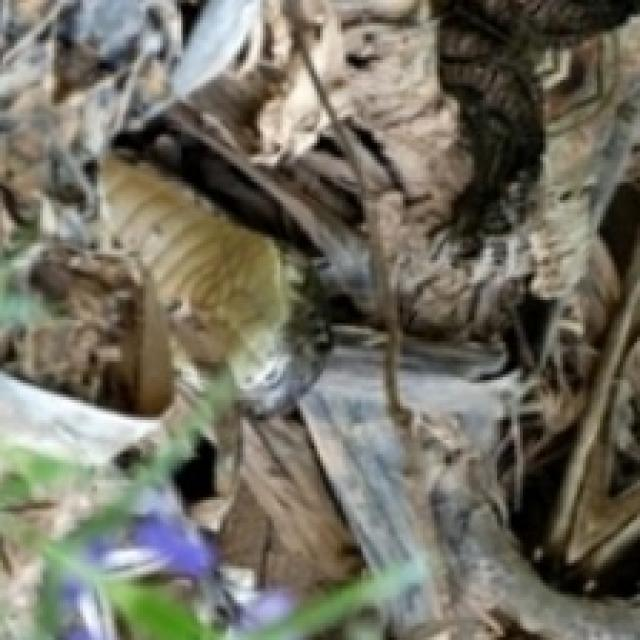king cobra: (0, 0, 637, 637), (40, 463, 183, 574), (303, 320, 389, 426)
